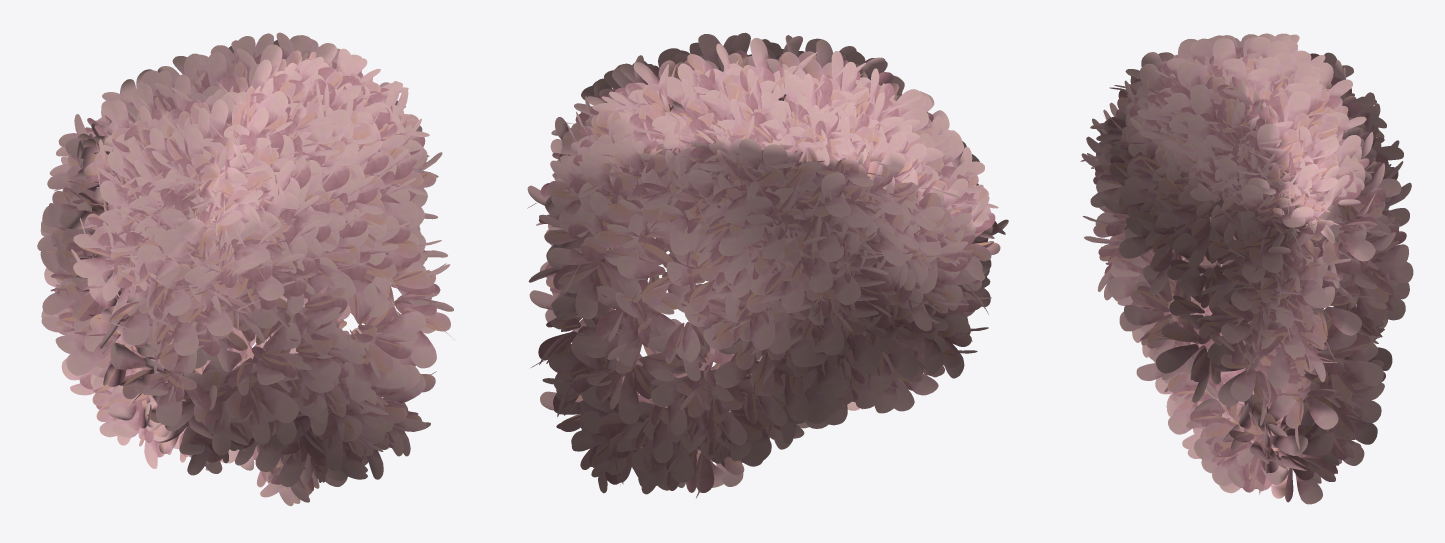
Rendered from Mesh_Foliage5_feuille.fbx.
3 renders of one model, left to right at view 1: azimuth 30°, elevation 25°; view 2: azimuth 150°, elevation 25°; view 3: azimuth 270°, elevation 25°, orthographic. The views are drawn at different scales.
Parts seen in each view (by area): view 1: Plane069; view 2: Plane069; view 3: Plane069.
Boxes of the visible parts, x1,y1,x2,y2 form: Plane069: (37, 32, 454, 506); Plane069: (527, 32, 1008, 498); Plane069: (1080, 33, 1413, 504).
Size of the model in its own units: 341 by 364 by 276.
